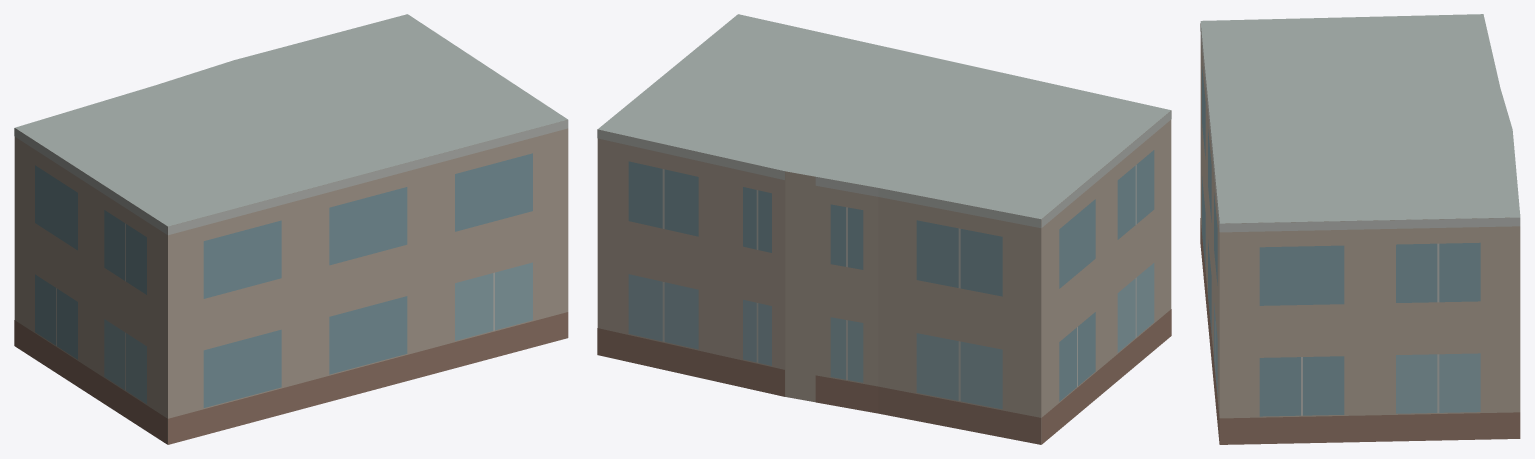
File: survey-upis-32751343.glb
3 views of the same model, side by side, from view 1: azimuth 30°, elevation 25°; view 2: azimuth 150°, elevation 25°; view 3: azimuth 270°, elevation 25° (orthographic). The views are drawn at different scales.
Parts seen in each view (by area): view 1: survey-upis-32751343.tmp; view 2: survey-upis-32751343.tmp; view 3: survey-upis-32751343.tmp.
Boxes of the visible parts, box(x1,y1,x2,y2) form: survey-upis-32751343.tmp: box(14, 14, 568, 444); survey-upis-32751343.tmp: box(597, 14, 1171, 444); survey-upis-32751343.tmp: box(1200, 14, 1520, 444).
Bounding box in the file's own units: 12.4 × 6.1 × 8.01.
